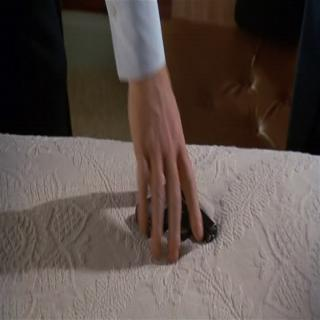gun: (147, 174, 215, 258)
